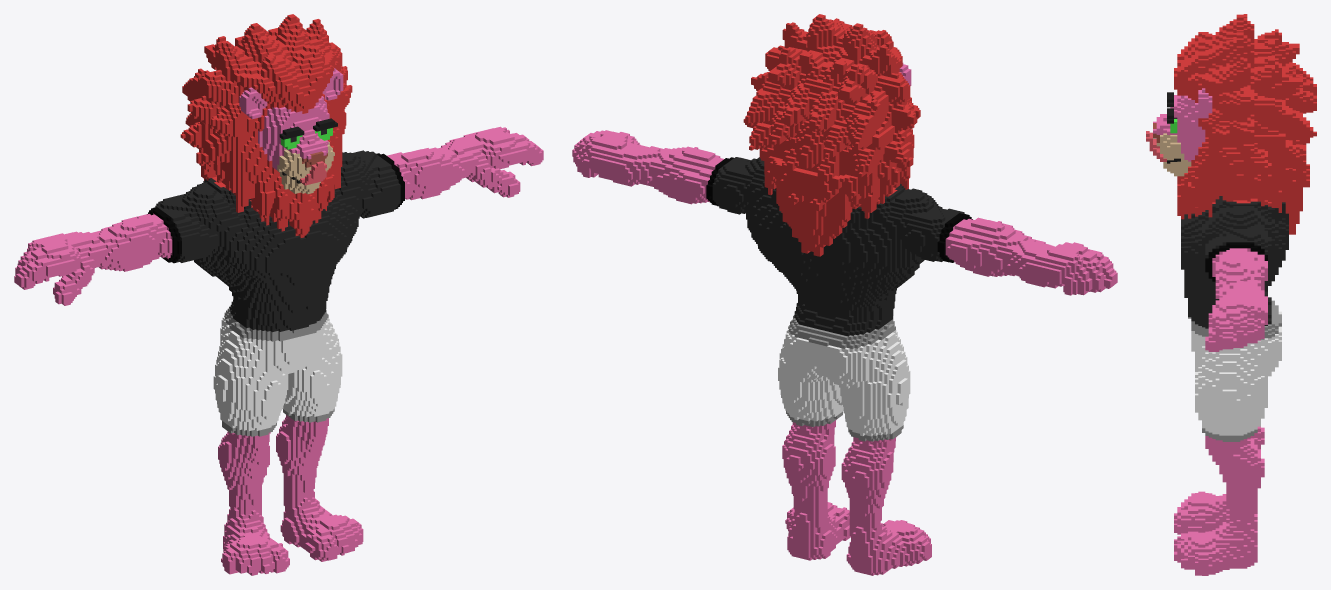
File: 548-CC7Pun9Z.glb
3 views of the same model, side by side, from view 1: azimuth 30°, elevation 25°; view 2: azimuth 150°, elevation 25°; view 3: azimuth 270°, elevation 25° (orthographic). The views are drawn at different scales.
Parts seen in each view (by area): view 1: licking_nose; view 2: licking_nose; view 3: licking_nose.
Part boxes in pixels (x1,y1,x2,y2): licking_nose: [14, 14, 543, 575]; licking_nose: [572, 14, 1117, 575]; licking_nose: [1146, 14, 1316, 575].
Size of the model in its own units: 17.2 by 16.5 by 4.9.
Materials: 5 (5 with a texture image).
